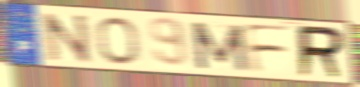9: (149, 16, 191, 72)
F: (242, 22, 294, 75)
M: (188, 20, 250, 73)
N: (39, 12, 94, 65)
O: (94, 15, 142, 67)
R: (296, 23, 347, 81)
